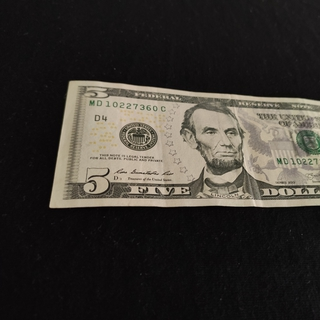5USDFront: (49, 79, 320, 207)
